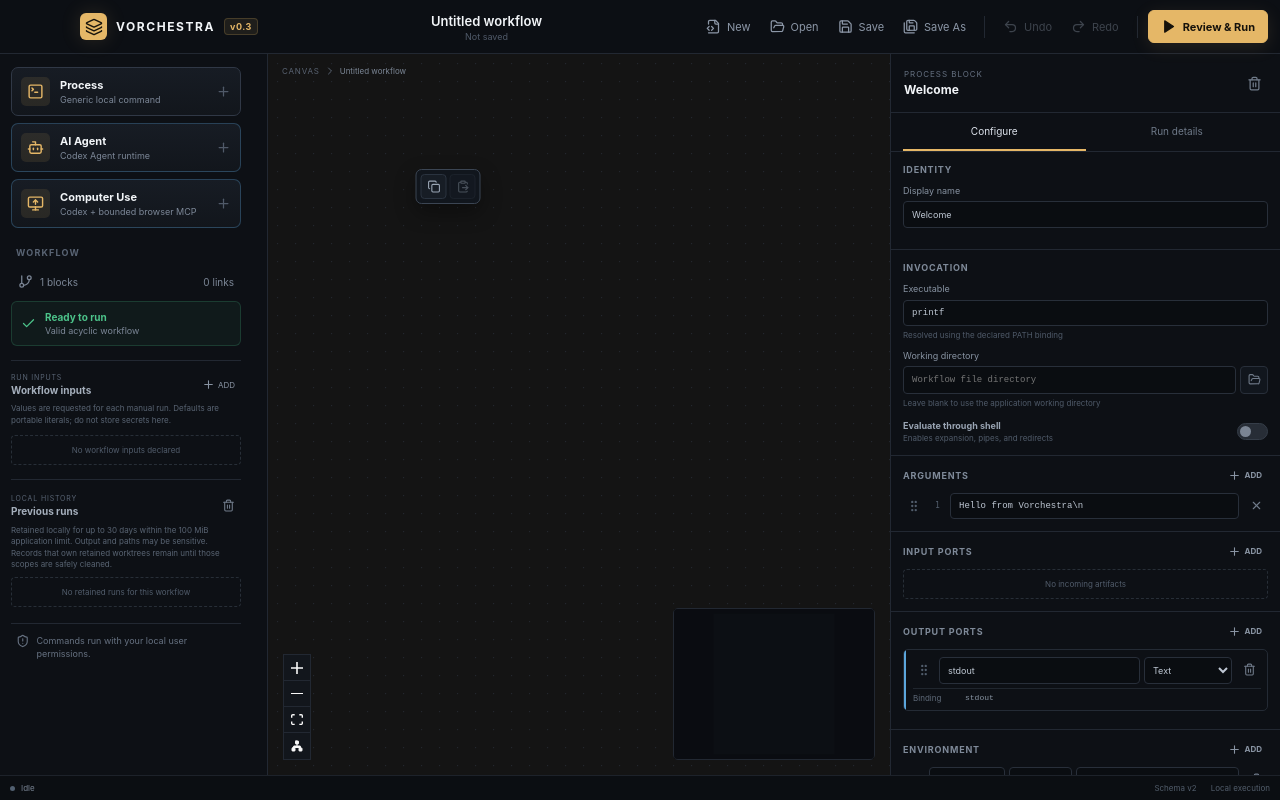
block configuration ordering › undoes and redoes workflow edits from toolbar and keyboard controls
Expected: the button "Undo" is disabled, x1=995 y1=12 x2=1060 y2=41
Expected: the button "Redo" is disabled, x1=1063 y1=12 x2=1127 y2=41
Replace the text in the field named "Workflow name" with "Edited workflow" at (486, 21), box x1=287 y1=11 x2=686 y2=31
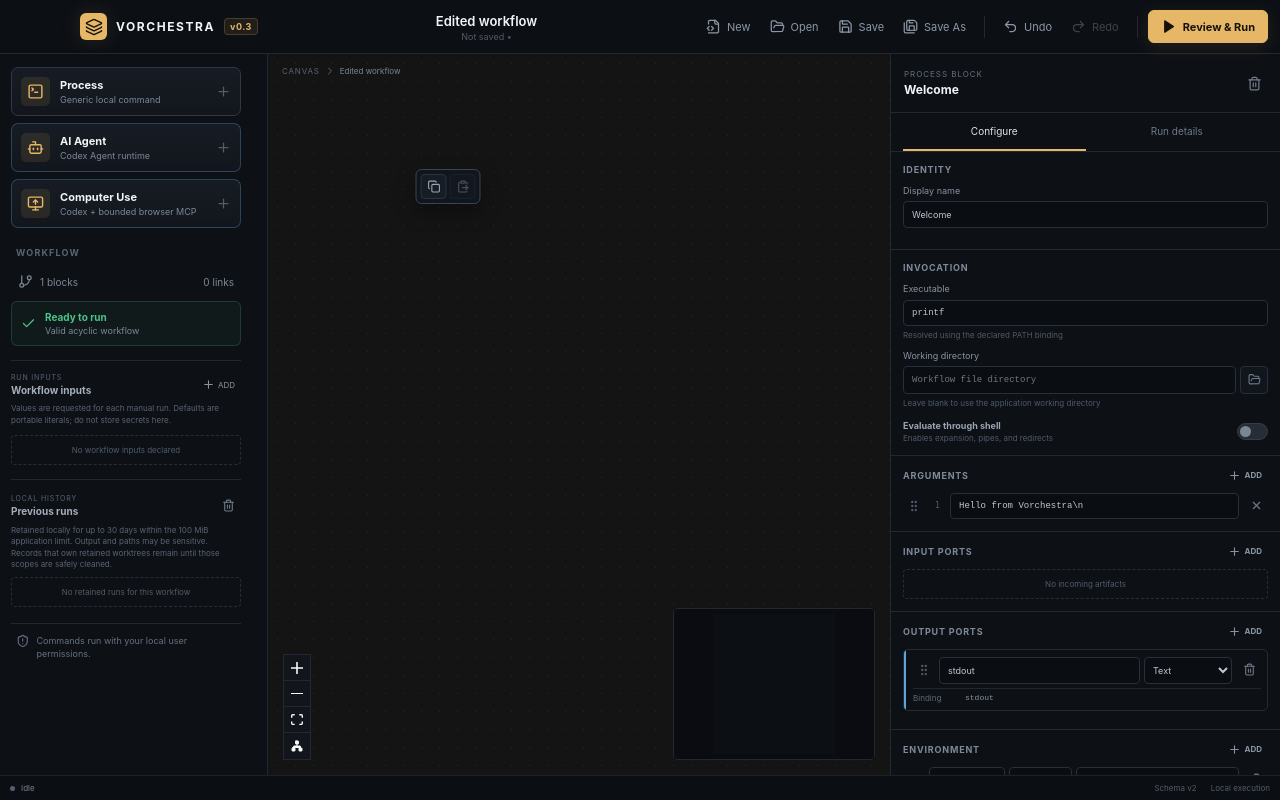
Result: the button "Undo" is enabled
Click the button "Undo" at (1028, 26), box x1=995 y1=12 x2=1060 y2=41
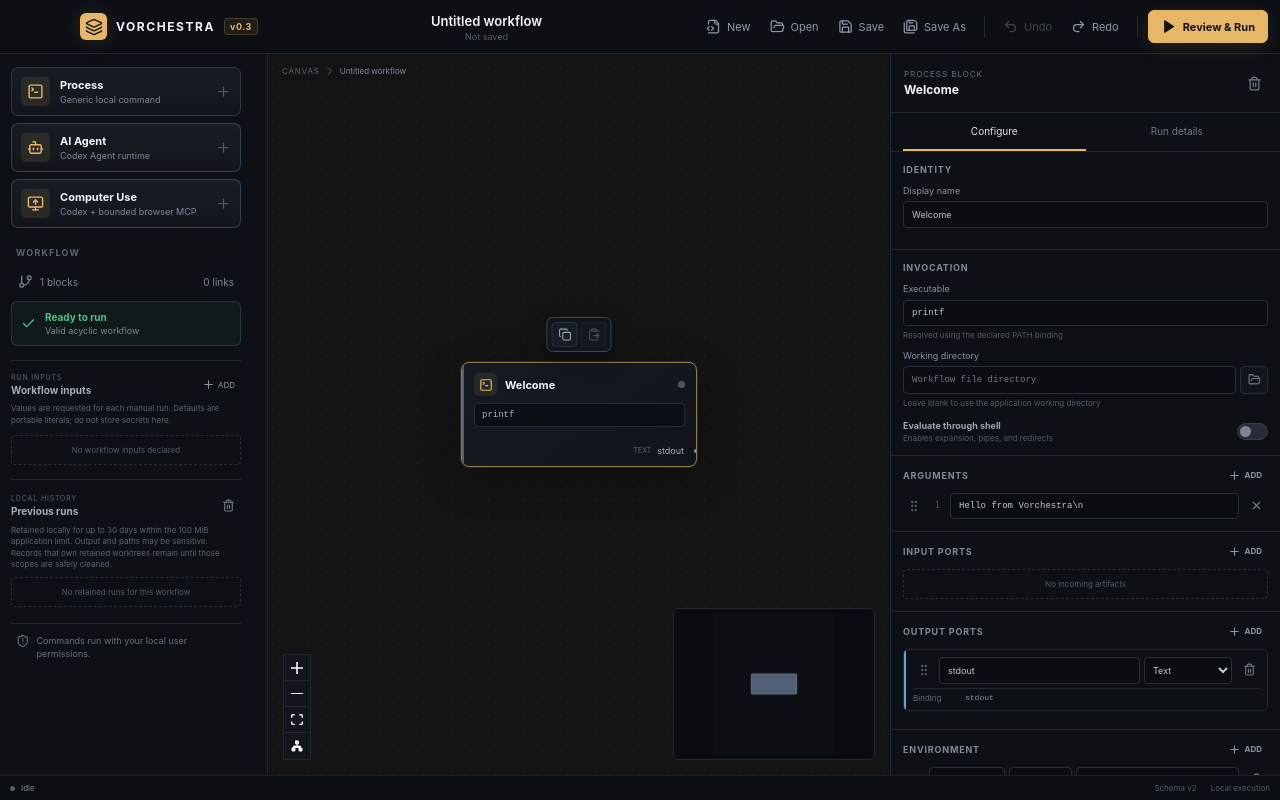
Result: the field named "Workflow name" holds "Untitled workflow" at x1=287 y1=11 x2=686 y2=31
Result: the button "Redo" is enabled at x1=1063 y1=12 x2=1127 y2=41
Press z
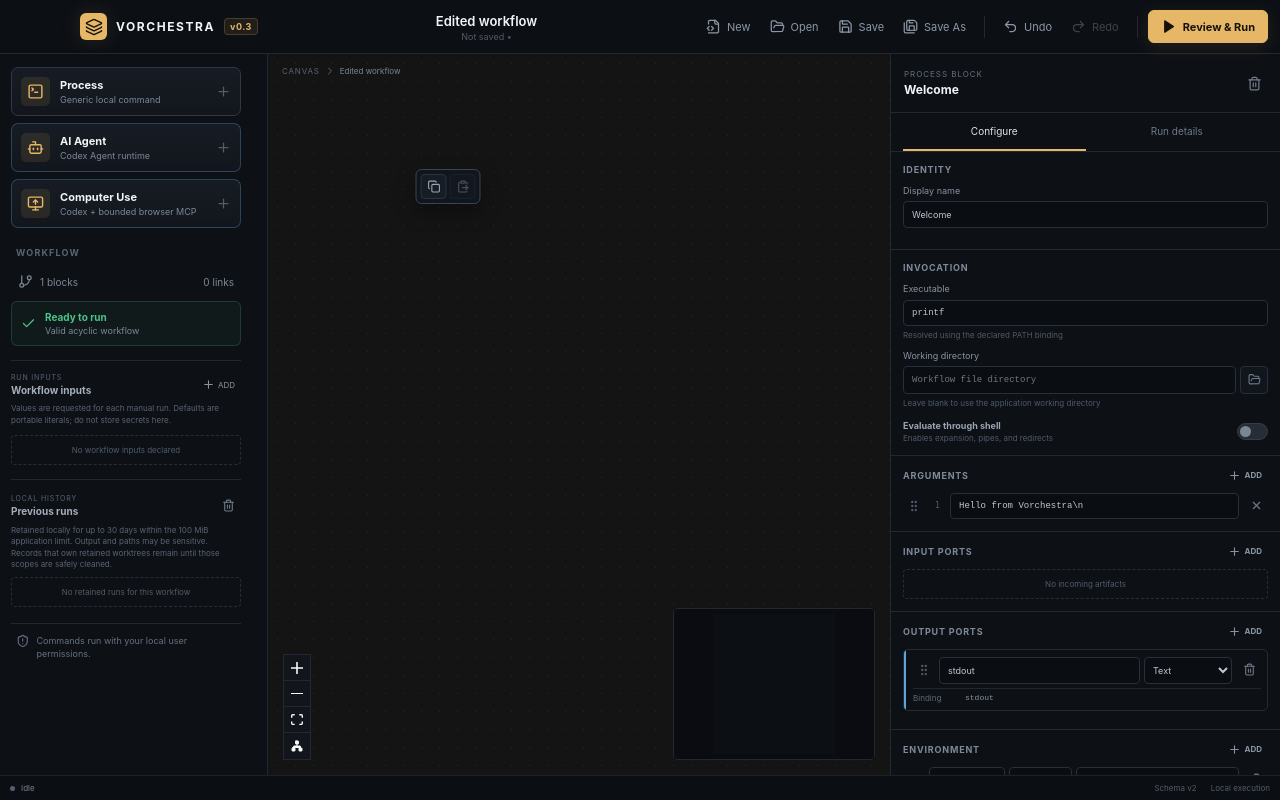
Press z
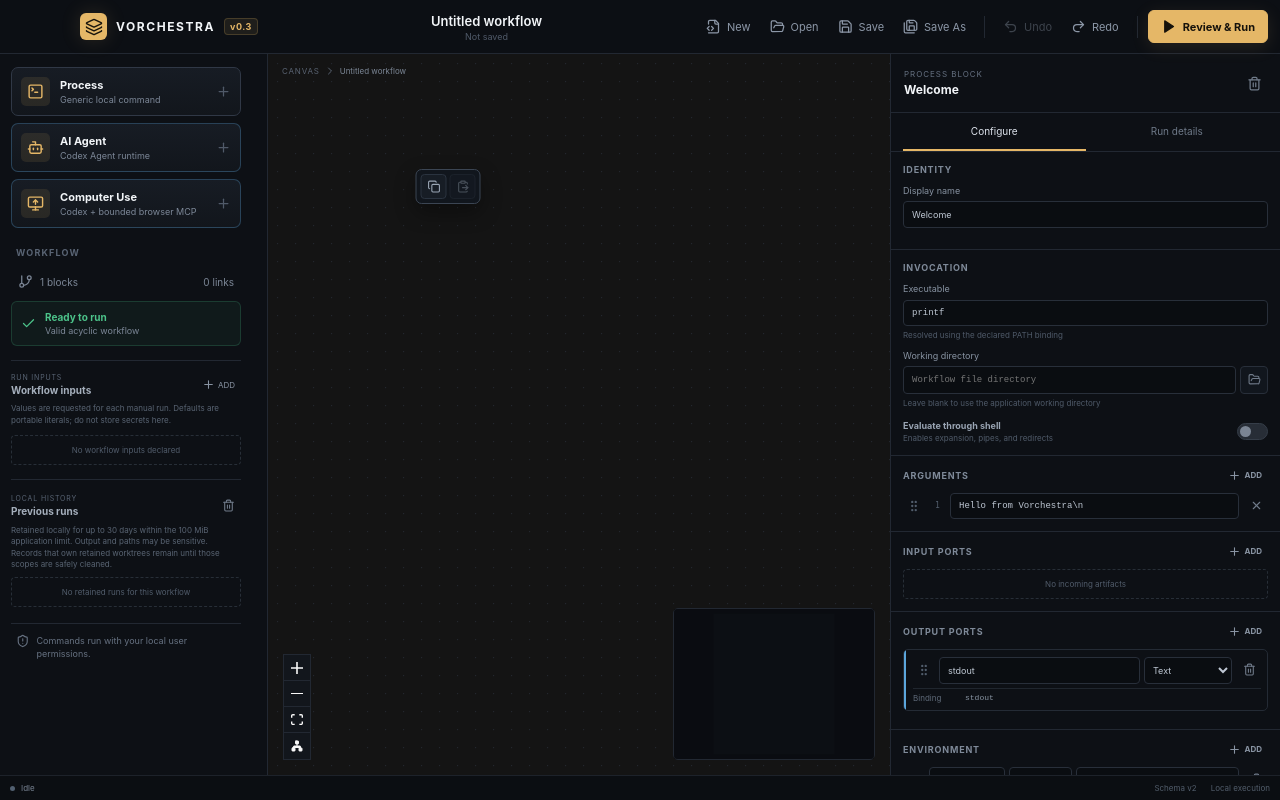
Result: the field named "Workflow name" holds "Untitled workflow" at x1=287 y1=11 x2=686 y2=31
